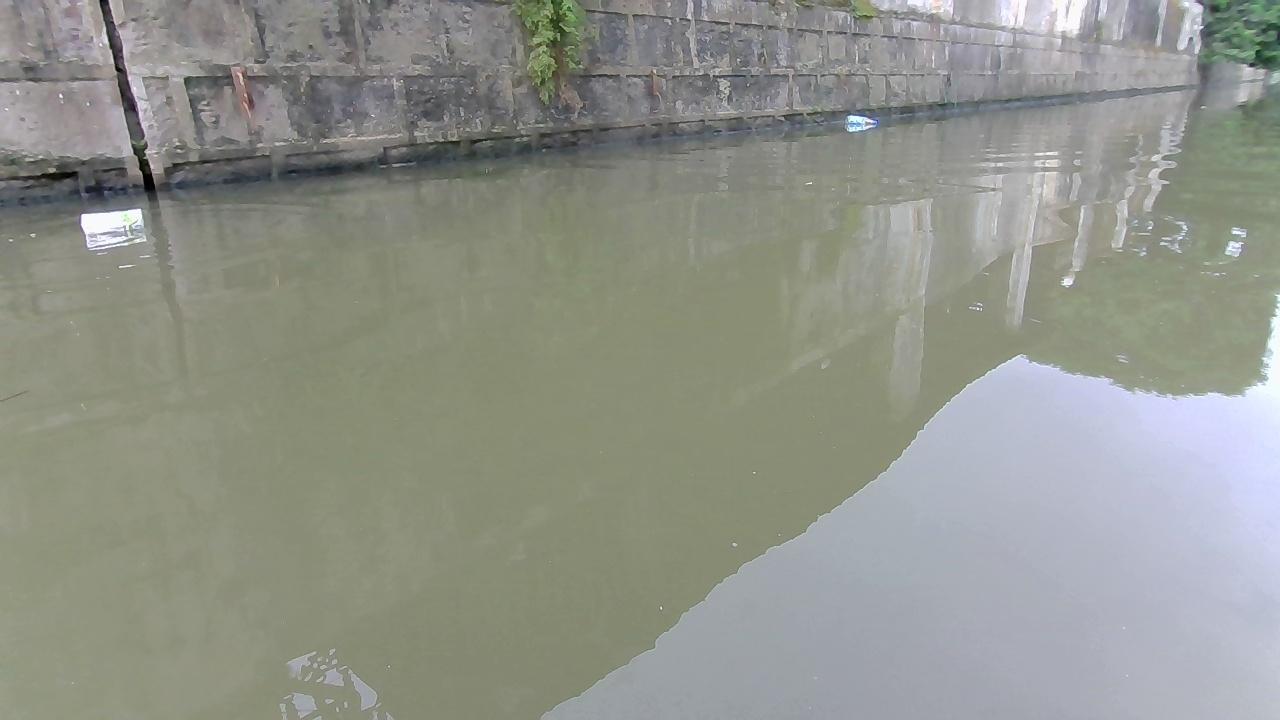bottle: (76, 207, 144, 229), (846, 114, 876, 131)
